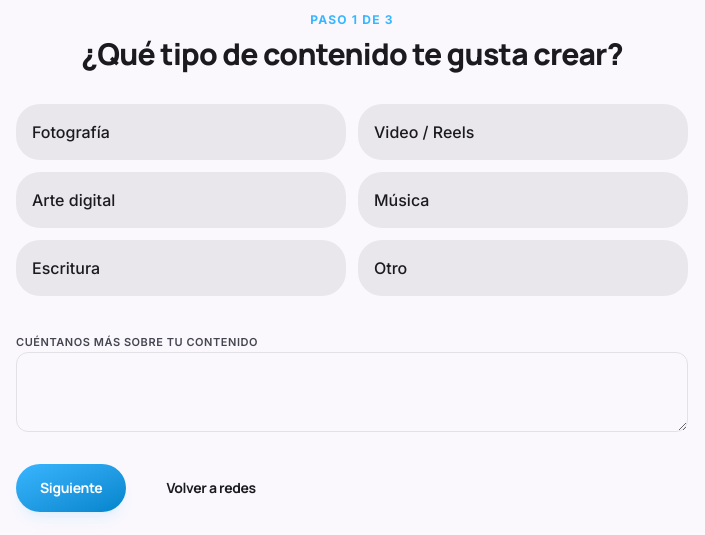
Test: IdeaStepForm — REQ-FE-3 caso B/C, REQ-AI-7 › avanza de paso al seleccionar una opción y volver conserva la respuesta
Click the button "Fotografía" at (71, 132), box [16,104,346,160]
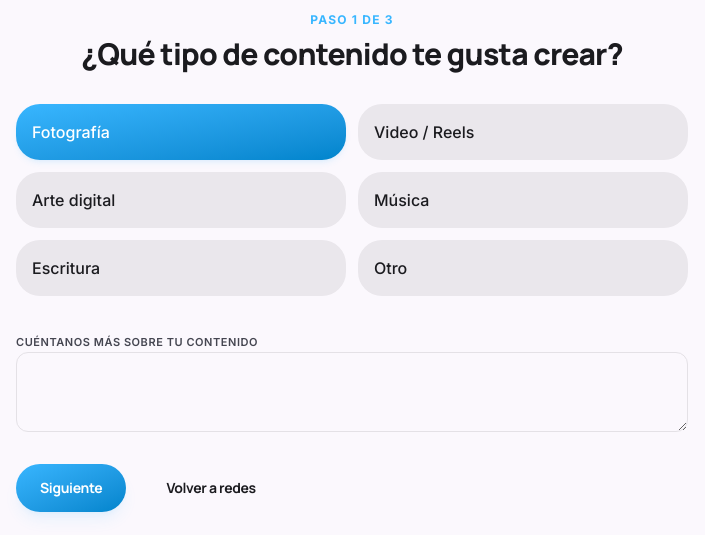
Type "Fotos de viaje" into the text box labelled "Cuéntanos más sobre tu contenido" at (352, 392), box [16,352,688,432]
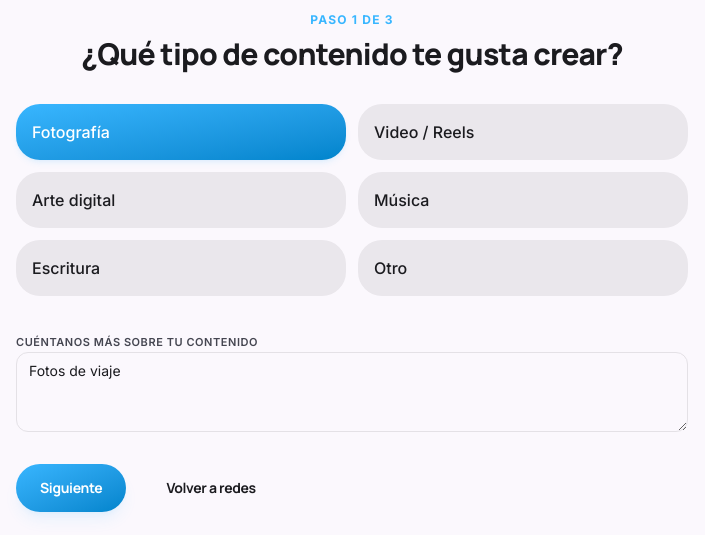
Click the button "Siguiente" at (71, 488), box [16,464,126,512]
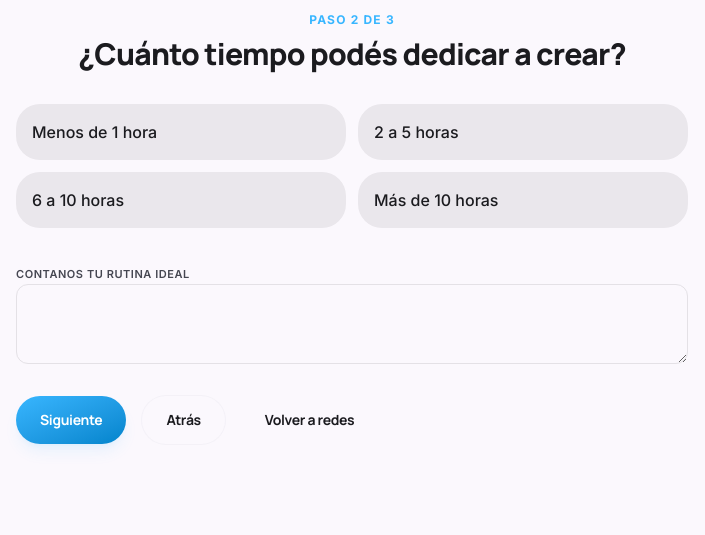
Check: the heading "¿Cuánto tiempo podés dedicar a crear?" is shown, box [78,33,626,74]
Click the button "Atrás" at (184, 420), box [142,396,225,444]
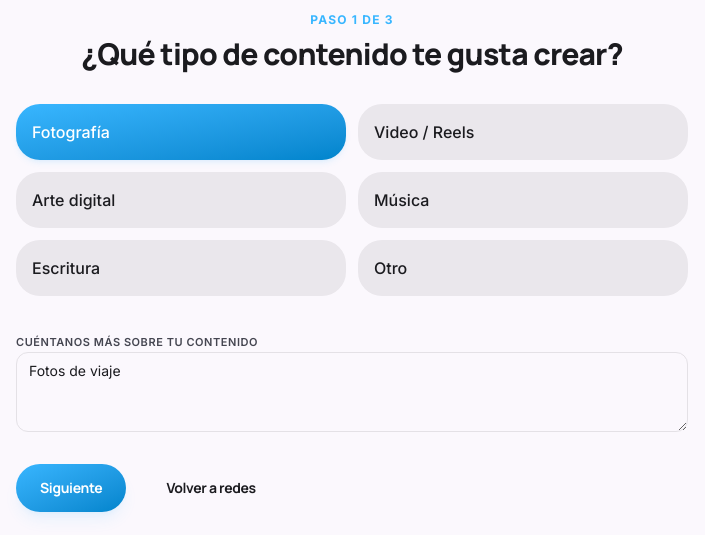
Check: the heading "¿Qué tipo de contenido te gusta crear?" is shown, box [81,33,623,74]
